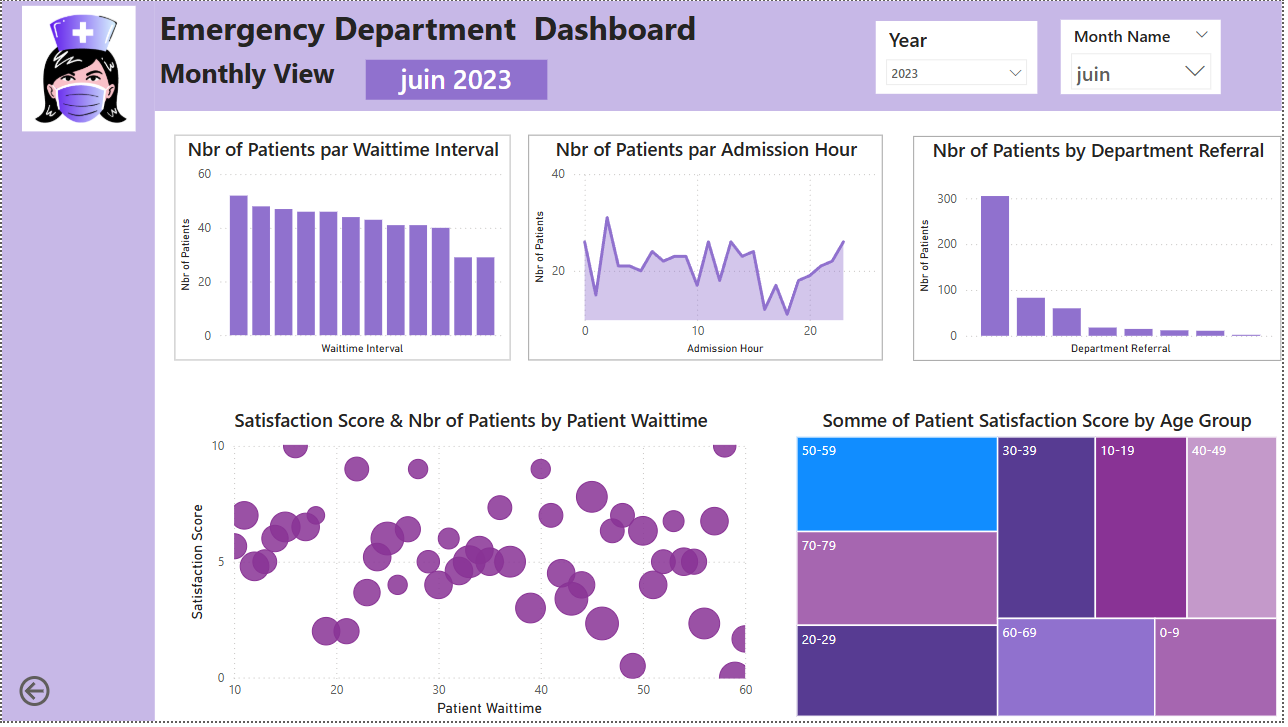

What the dashboard file says about the page in this screenshot:
{"tool":"powerbi","page":{"name":"Dashboard 2","canvas":[1280,720],"ordinal":1},"visuals":[{"type":"stackedAreaChart","fields":{"Category":["Date Table.Day Name","Hospital ER_Data.Admission Hour"],"Y":["Hospital ER_Data.Nbr of Patients"]},"box":[525.7,134.3,354.3,225.7],"z":0},{"type":"columnChart","title":"Nbr of Patients by Department Referral","fields":{"Category":["Hospital ER_Data.Department Referral"],"Y":["Hospital ER_Data.Nbr of Patients"]},"box":[911.7,135,368.3,225],"z":1000},{"type":"columnChart","fields":{"Category":["Hospital ER_Data.Waittime Interval"],"Y":["Hospital ER_Data.Nbr of Patients"]},"box":[172.9,134.3,335.7,225.7],"z":2000},{"type":"treemap","title":"Somme of  Patient Satisfaction Score by  Age Group","fields":{"Group":["Hospital ER_Data.Age Group"],"Values":["Sum(Hospital ER_Data.Patient Satisfaction Score)"]},"box":[790,405.7,490,314.3],"z":3000},{"type":"scatterChart","title":"Satisfaction Score & Nbr of Patients by Patient Waittime","fields":{"X":["Hospital ER_Data.Patient Waittime"],"Y":["Hospital ER_Data.Satisfaction Score"],"Size":["Hospital ER_Data.Nbr of Patients"]},"box":[182.9,405.7,572.9,314.3],"z":4000},{"type":"shape","box":[0,0,152.9,720.2],"z":5000},{"type":"shape","box":[152.9,0,1127.1,110],"z":6000},{"type":"slicer","fields":{"Values":["Date Table.Year"]},"box":[874.3,20,161.4,72.9],"z":7000},{"type":"slicer","fields":{"Values":["Date Table.Month Name"]},"box":[1058.6,18.6,160,74.3],"z":8000},{"type":"card","fields":{"Values":["Min(Date Table.Month & Year)"]},"box":[364.3,58.6,181.4,40],"z":9000},{"type":"textbox","box":[152.9,48.6,221.4,60],"z":10000},{"type":"textbox","box":[152.9,0,660,71.4],"z":11000},{"type":"actionButton","box":[12.9,670,100,40],"z":12000},{"type":"image","box":[0,0,152.9,135.7],"z":13001}]}

Visuals, with their boxes in screenshot pixels (x1, y1, x2, y2), scaled from the page's 1280x720 canvas onto the 1288x727 screenshot:
stackedAreaChart - Date Table.Day Name x Hospital ER_Data.Admission Hour: locate(529, 136, 886, 364)
"Nbr of Patients by Department Referral" columnChart: locate(917, 136, 1287, 364)
columnChart - Hospital ER_Data.Waittime Interval x Hospital ER_Data.Nbr of Patients: locate(174, 136, 512, 364)
"Somme of  Patient Satisfaction Score by  Age Group" treemap: locate(795, 410, 1287, 726)
"Satisfaction Score & Nbr of Patients by Patient Waittime" scatterChart: locate(184, 410, 761, 726)
shape: locate(0, 0, 154, 726)
shape: locate(154, 0, 1287, 111)
slicer - Date Table.Year: locate(880, 20, 1042, 94)
slicer - Date Table.Month Name: locate(1065, 19, 1226, 94)
card - Min(Date Table.Month & Year): locate(367, 59, 549, 100)
textbox: locate(154, 49, 377, 110)
textbox: locate(154, 0, 818, 72)
actionButton: locate(13, 677, 114, 717)
image: locate(0, 0, 154, 137)
